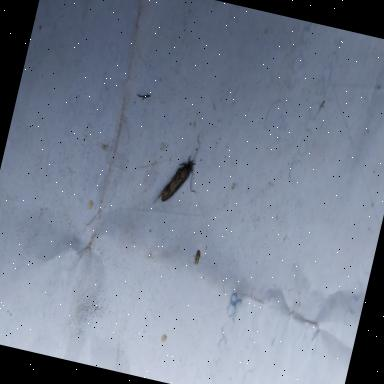pbw: (152, 128, 209, 216)
